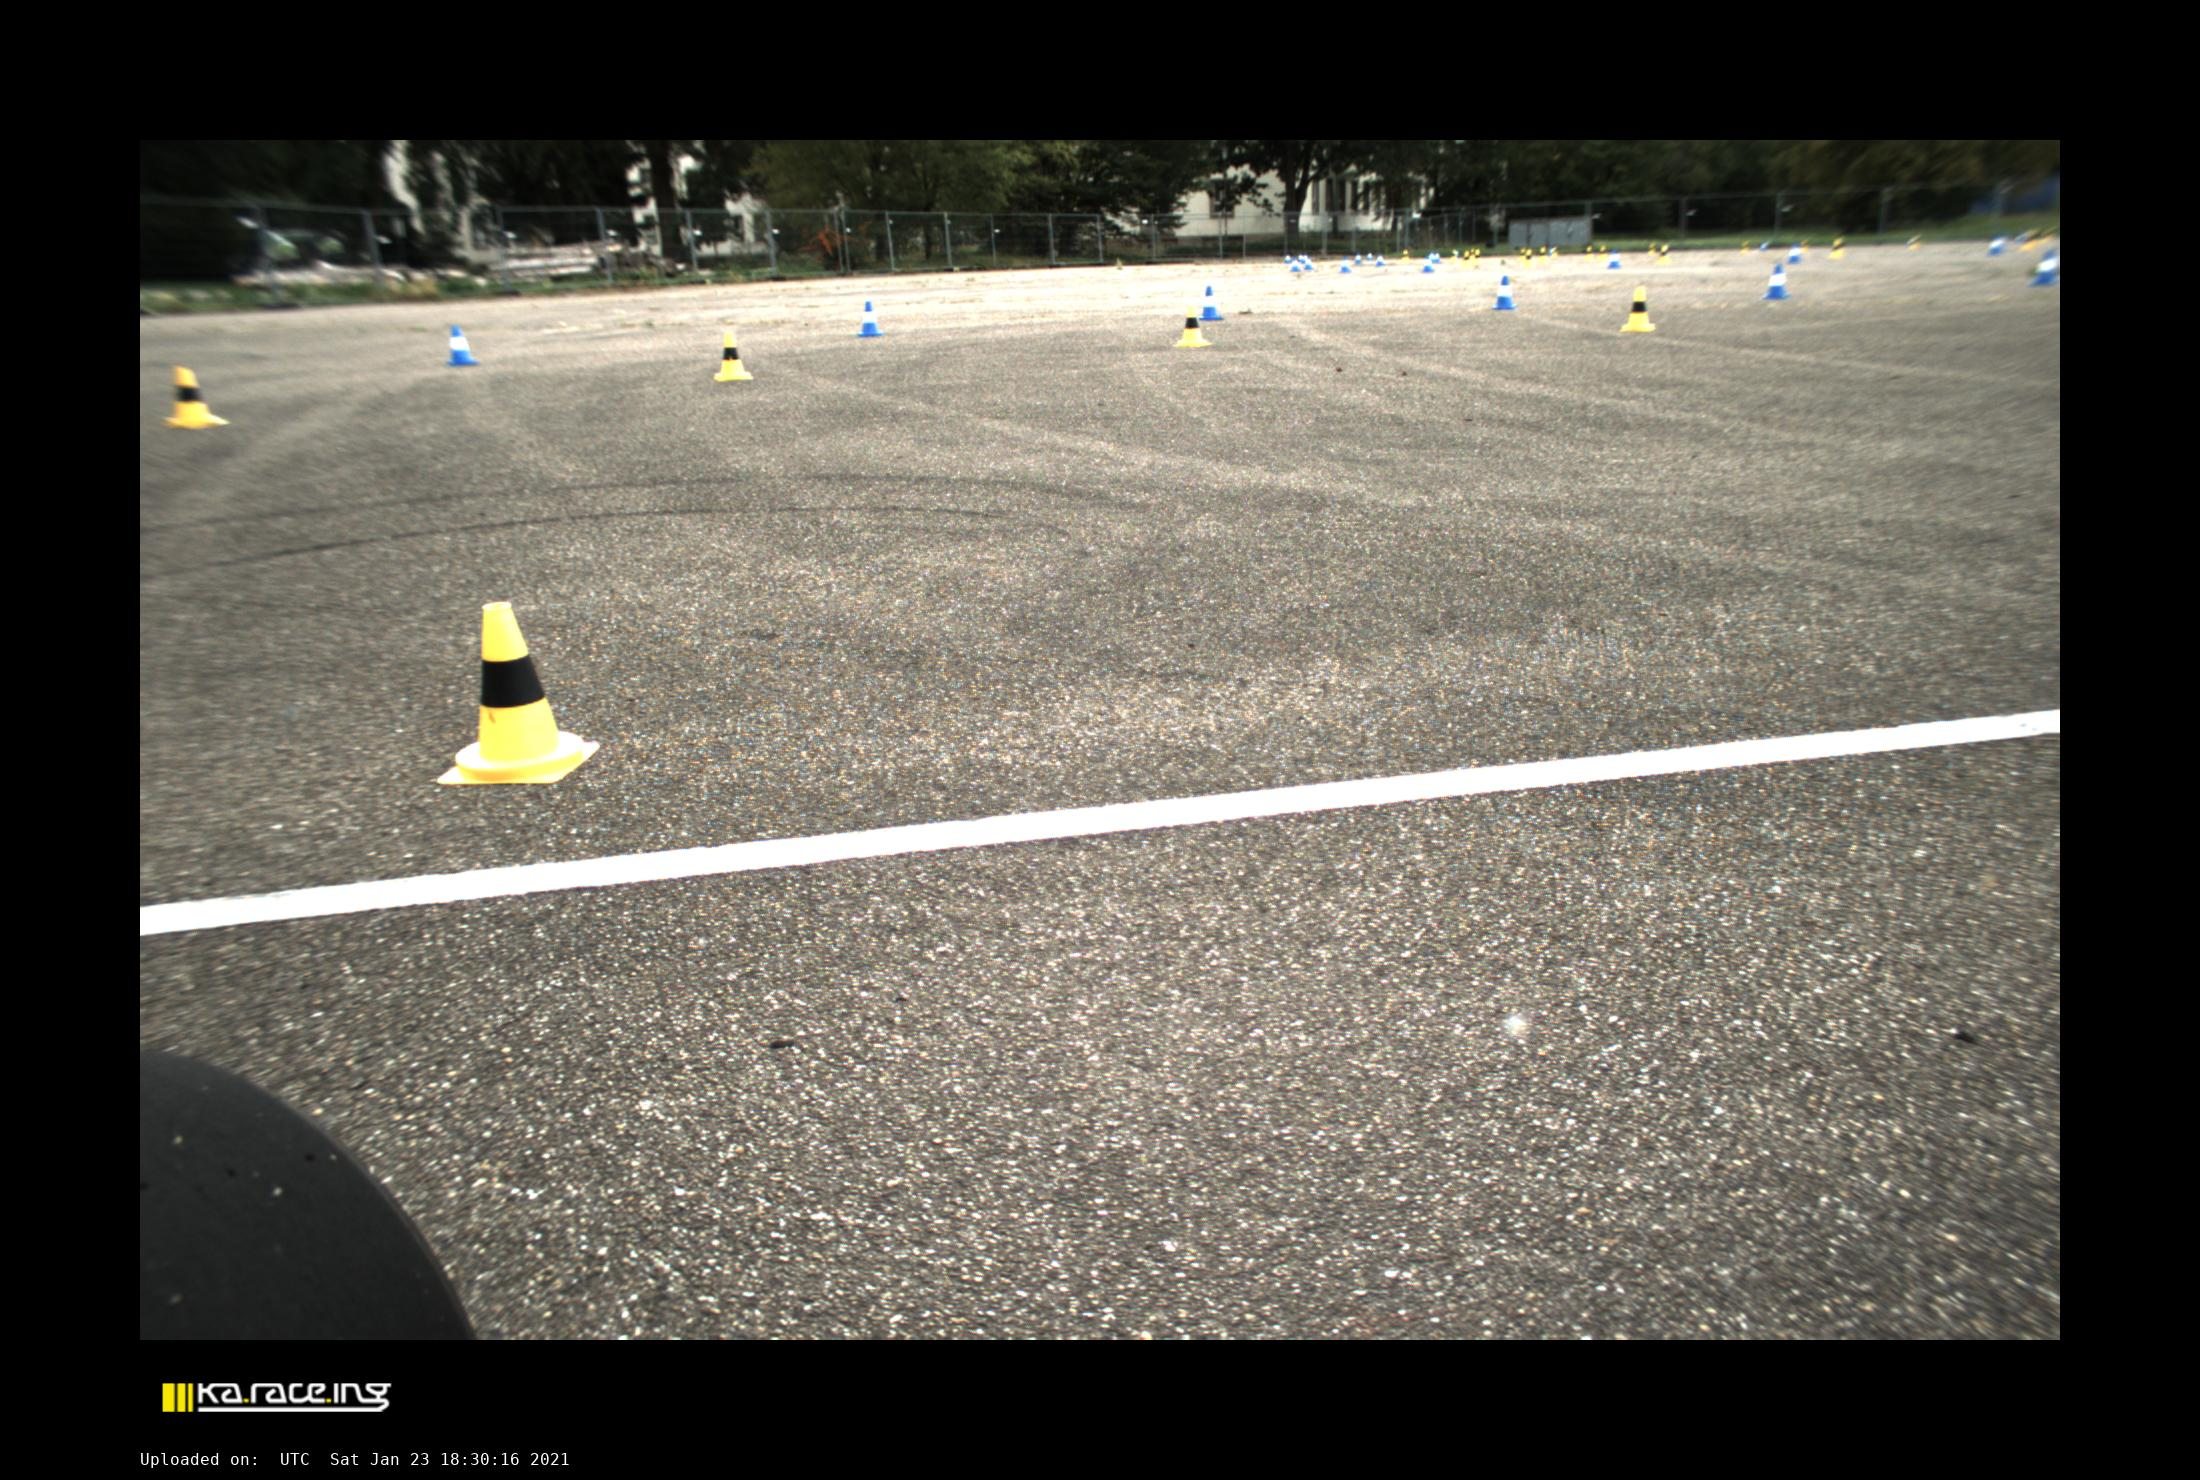blue_cone: (446, 325, 479, 367), (2027, 248, 2060, 287), (1762, 264, 1790, 299), (857, 301, 884, 337), (1491, 274, 1516, 309), (1199, 286, 1224, 320), (1985, 231, 2008, 258), (1785, 243, 1802, 264), (1420, 254, 1435, 273), (1607, 249, 1622, 268), (1288, 256, 1302, 271), (1339, 256, 1351, 273), (1303, 254, 1315, 269), (1432, 249, 1444, 263), (2013, 231, 2025, 244), (1374, 253, 1386, 264), (1353, 253, 1363, 264), (1759, 241, 1769, 253), (1283, 253, 1292, 264), (1366, 251, 1373, 261), (1302, 253, 1306, 264), (1548, 246, 1553, 258)
yellow_cone: (438, 601, 600, 785), (167, 367, 226, 428), (714, 330, 753, 382), (1620, 286, 1657, 332), (1176, 306, 1209, 347), (2018, 230, 2038, 253), (1828, 236, 1845, 259), (1657, 244, 1671, 264), (1521, 249, 1536, 268), (2040, 226, 2055, 244), (1582, 244, 1595, 263), (1460, 249, 1472, 269), (1472, 248, 1483, 266), (1597, 244, 1609, 261), (1538, 248, 1549, 263), (1908, 235, 1919, 249), (1739, 241, 1751, 254), (1549, 244, 1559, 259), (1401, 249, 1411, 263), (1448, 249, 1458, 263), (1647, 243, 1657, 256), (1800, 240, 1809, 253), (1518, 248, 1524, 263), (1470, 248, 1475, 259)
